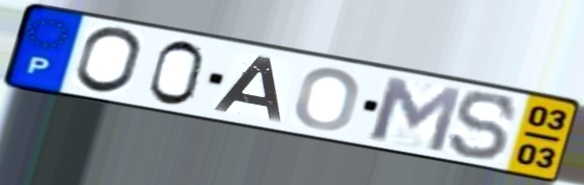0: (145, 39, 208, 107)
A: (209, 54, 286, 125)
M: (367, 73, 466, 156)
O: (70, 25, 146, 97), (292, 66, 364, 132)
S: (446, 90, 521, 162)
